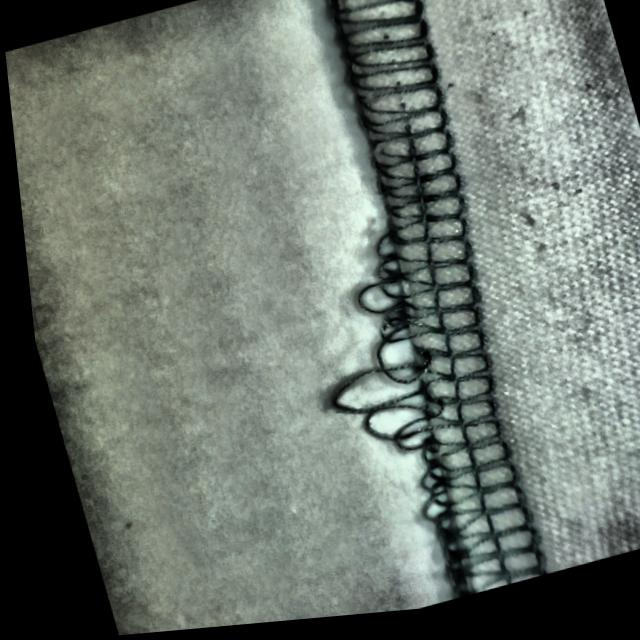Stitch: (279, 216, 538, 561)
